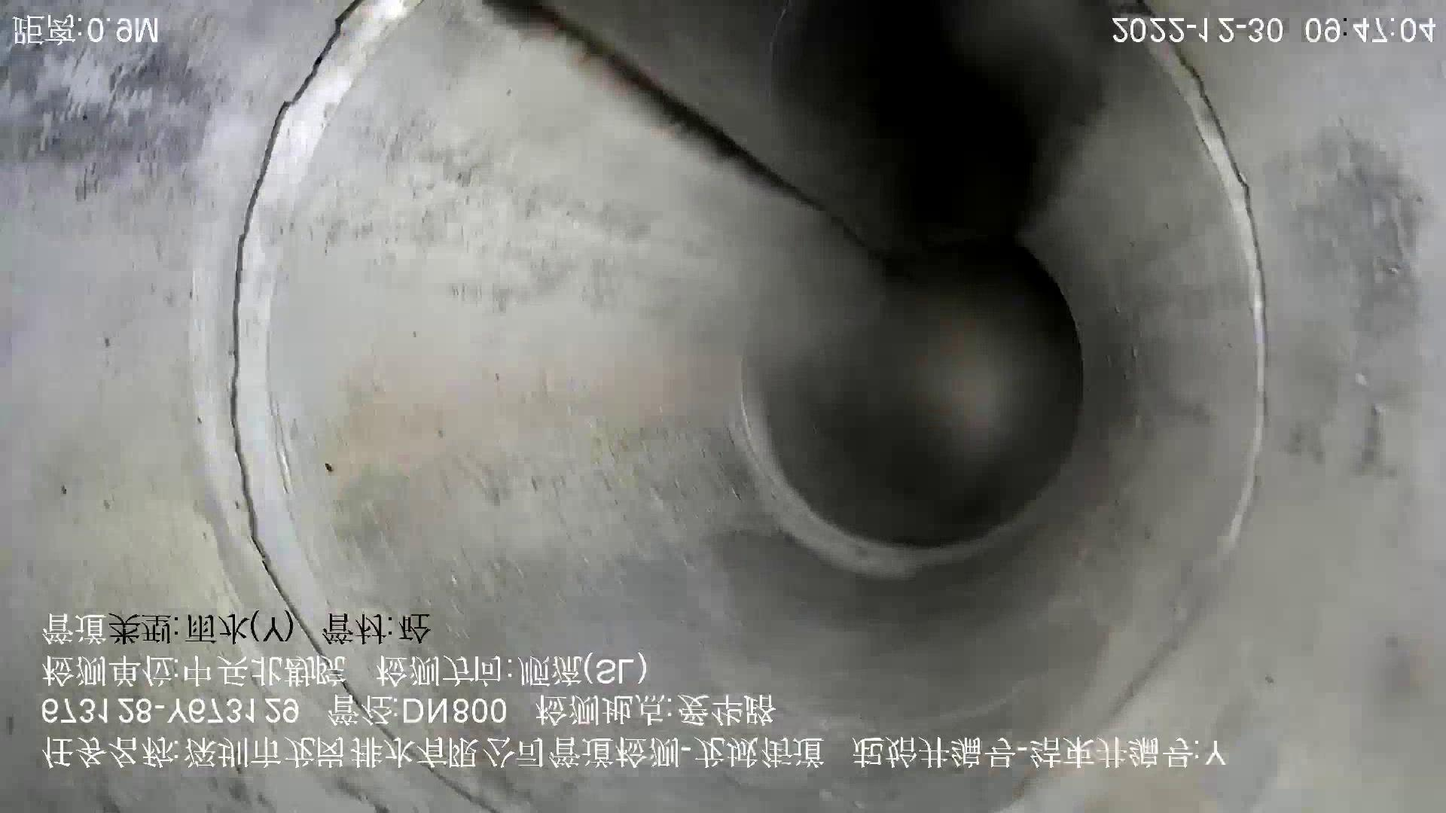CKTJ: (230, 1, 543, 813), (1108, 4, 1277, 709)
